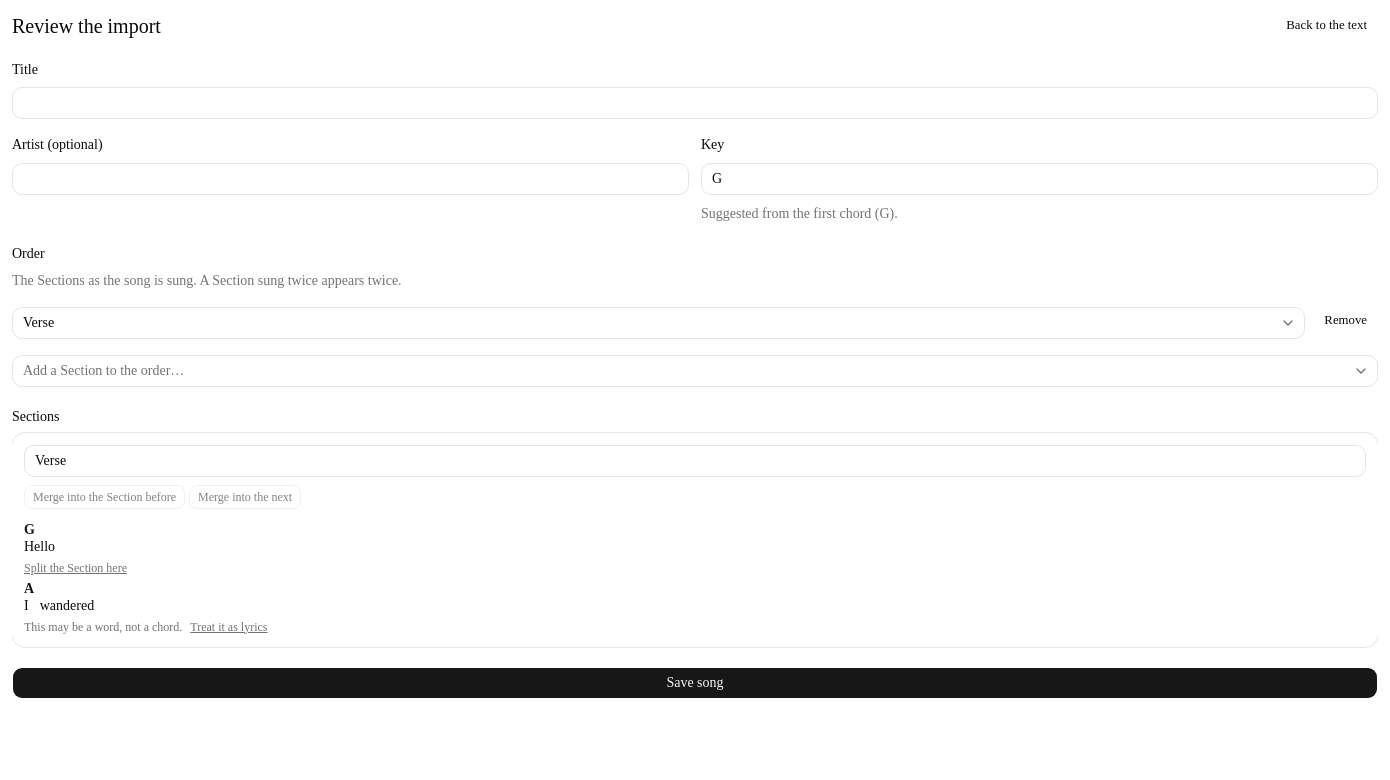
reviewing an import › can turn a line that may be a word back into lyrics
Expected: the text "This may be a word, not a chord." is shown, [24,620,182,634]
Click the button "Treat it as lyrics": [229, 626] box [190,618,268,634]
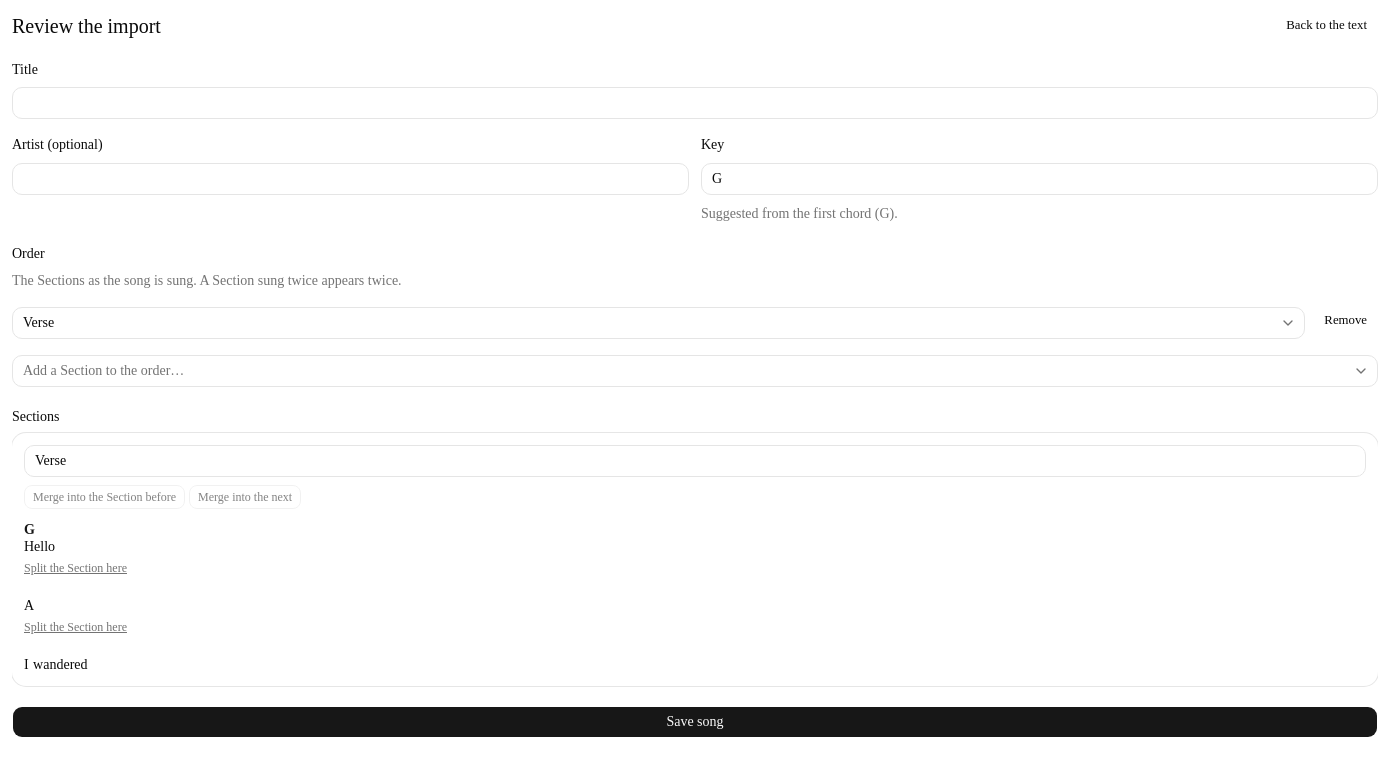
Expected: the text "This may be a word, not a chord." is gone
